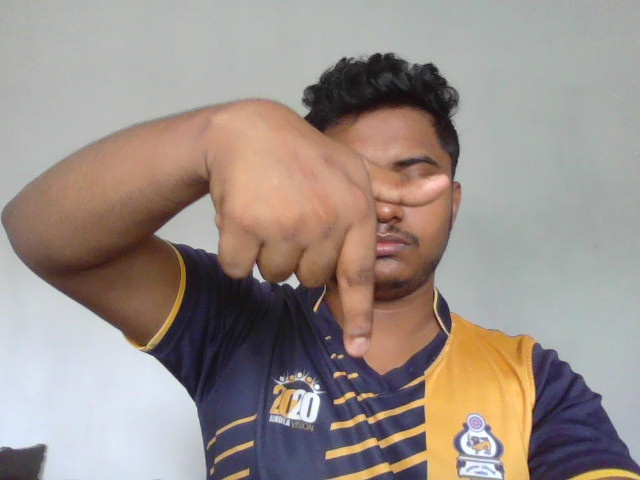Later: (211, 98, 451, 357)
